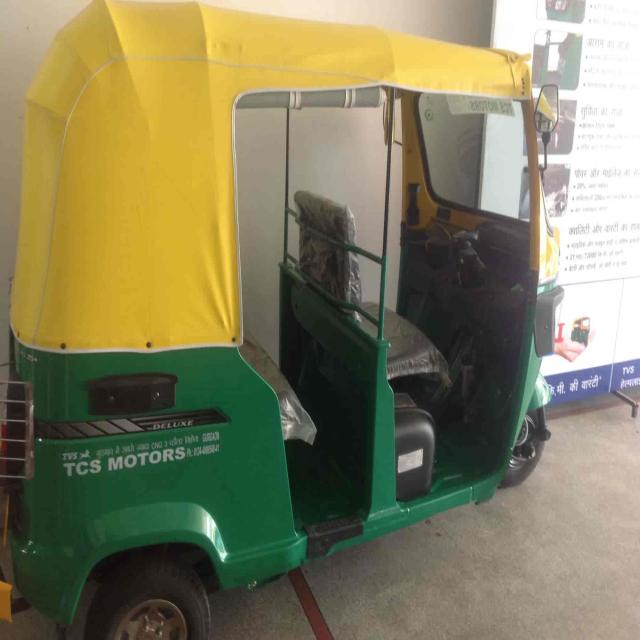autorickshaw: (0, 2, 562, 638)
